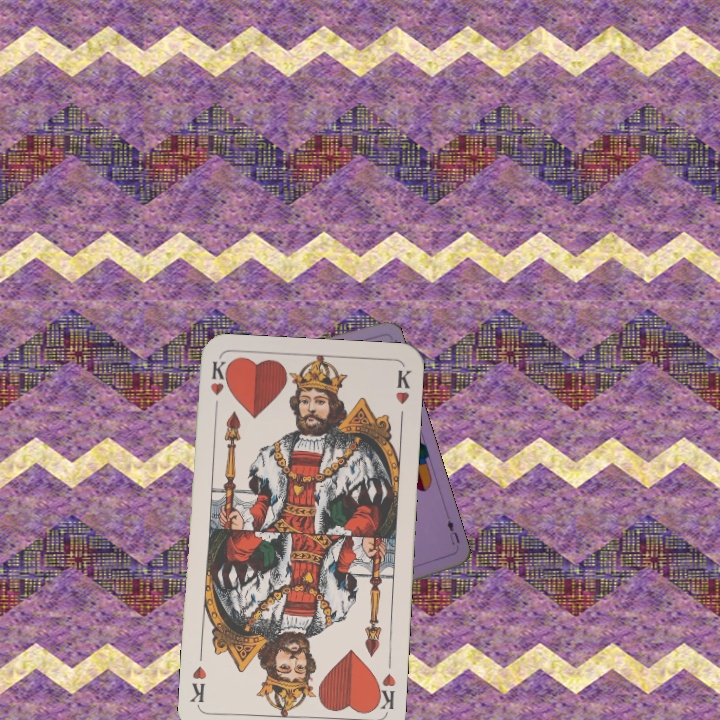EU: (443, 516, 462, 547)
HK: (206, 358, 229, 417), (371, 669, 398, 716)
